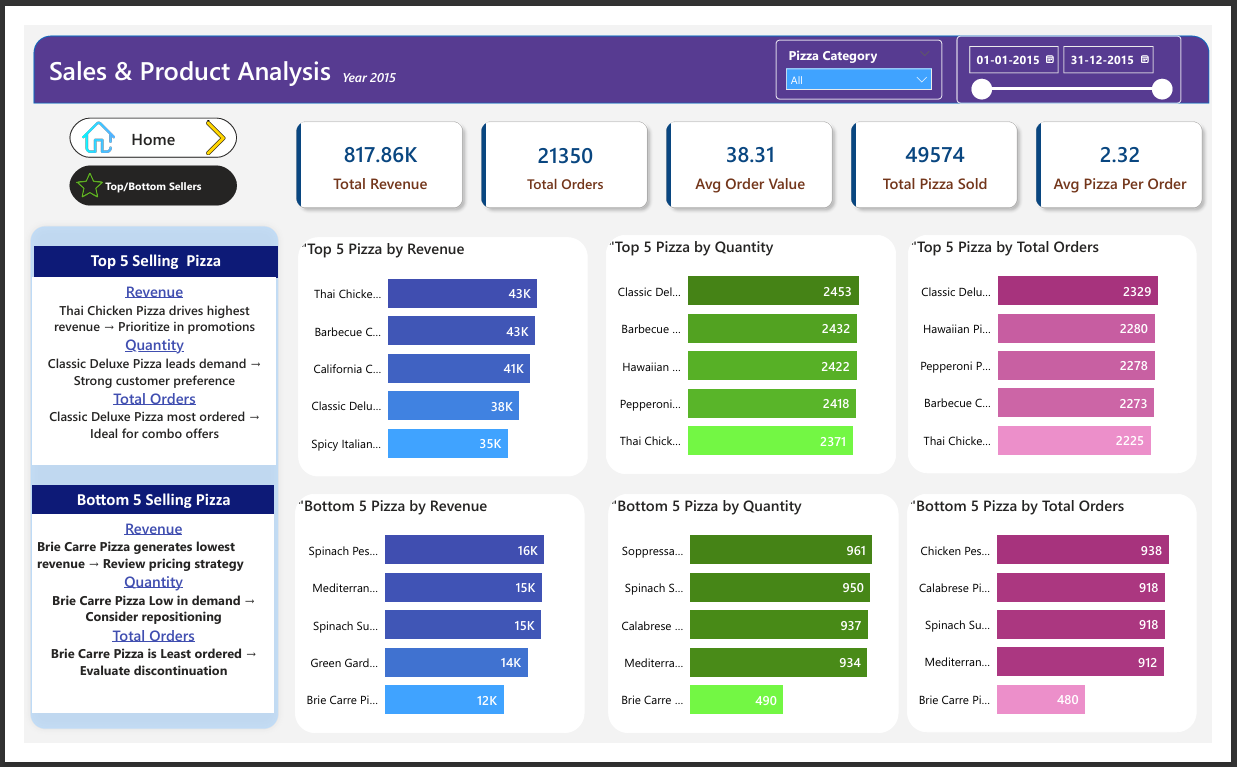

Layout of this report page (visuals, bound fields, positions):
{"tool":"powerbi","page":{"name":"Top/Bottom Sellers","canvas":[1490,900],"ordinal":1},"visuals":[{"type":"shape","box":[11.7,13.3,1475,85],"z":0},{"type":"shape","box":[0,244.3,326.9,646.5],"z":1000},{"type":"textbox","box":[26.2,29.5,418.9,63.8],"z":2000},{"type":"textbox","box":[394.4,42.5,127.6,50.7],"z":3000},{"type":"textbox","box":[12.9,277.3,304.9,38.6],"z":4000},{"type":"textbox","box":[11,613.5,303.1,249.8],"z":5000},{"type":"textbox","box":[11,315.9,304.9,235.1],"z":6000},{"type":"textbox","box":[11,576.7,303.1,36.7],"z":7000},{"type":"slicer","fields":{"Values":["pizza_sales.pizza_category"]},"box":[943.3,18.3,208.3,75],"z":8000},{"type":"slicer","fields":{"Values":["pizza_sales.order_date"]},"box":[1170,13.3,281.7,85],"z":9000},{"type":"barChart","title":"\"Top 5 Pizza by Revenue","fields":{"Category":["pizza_sales.pizza_name"],"Y":["pizza_sales.Total Revenue"]},"box":[343.5,266.1,363.3,300],"z":10000},{"type":"barChart","title":"\"Top 5 Pizza by Quantity","fields":{"Category":["pizza_sales.pizza_name"],"Y":["pizza_sales.Total Pizza Sold"]},"box":[730.2,262.7,363.3,300],"z":11000},{"type":"barChart","title":"\"Top 5 Pizza by Total Orders","fields":{"Category":["pizza_sales.pizza_name"],"Y":["pizza_sales.Total Orders"]},"box":[1109.4,262.7,361.8,299.4],"z":12000},{"type":"barChart","title":"\"Bottom 5 Pizza by Revenue","fields":{"Category":["pizza_sales.pizza_name"],"Y":["pizza_sales.Total Revenue"]},"box":[340,587.9,363.3,300],"z":13000},{"type":"barChart","title":"\"Bottom 5 Pizza by Quantity","fields":{"Category":["pizza_sales.pizza_name"],"Y":["pizza_sales.Total Pizza Sold"]},"box":[733.3,587.9,363.3,300],"z":14000},{"type":"barChart","title":"\"Bottom 5 Pizza by Total Orders","fields":{"Category":["pizza_sales.pizza_name"],"Y":["pizza_sales.Total Orders"]},"box":[1107.6,587.8,363.7,299.4],"z":15000},{"type":"pageNavigator","box":[57.1,115.7,210,50],"z":16000},{"type":"pageNavigator","box":[57.1,175.7,210,50],"z":17000},{"type":"image","box":[57.1,120,72.9,41.4],"z":18000},{"type":"image","box":[57.1,184.3,50,32.9],"z":19000},{"type":"image","box":[214.3,120,52.9,42.9],"z":20000},{"type":"cardVisual","fields":{"Data":["pizza_sales.Total Revenue","pizza_sales.Total Orders","pizza_sales.Avg Order Value","pizza_sales.Total Pizza Sold","pizza_sales.Avg Pizza sold Per Order"]},"box":[330,109.5,1160,131.7],"z":21000}]}

Visuals, with their boxes in screenshot pixels (x1, y1, x2, y2), scaled from the page's 1490x900 canvas onto the 1237x767 screenshot:
shape: region(10, 11, 1234, 84)
shape: region(0, 208, 271, 759)
textbox: region(22, 25, 370, 80)
textbox: region(327, 36, 433, 79)
textbox: region(11, 236, 264, 269)
textbox: region(9, 523, 261, 736)
textbox: region(9, 269, 262, 470)
textbox: region(9, 491, 261, 523)
slicer - pizza_sales.pizza_category: region(783, 16, 956, 80)
slicer - pizza_sales.order_date: region(971, 11, 1205, 84)
""Top 5 Pizza by Revenue" barChart: region(285, 227, 587, 482)
""Top 5 Pizza by Quantity" barChart: region(606, 224, 908, 480)
""Top 5 Pizza by Total Orders" barChart: region(921, 224, 1221, 479)
""Bottom 5 Pizza by Revenue" barChart: region(282, 501, 584, 757)
""Bottom 5 Pizza by Quantity" barChart: region(609, 501, 910, 757)
""Bottom 5 Pizza by Total Orders" barChart: region(920, 501, 1221, 756)
pageNavigator: region(47, 99, 222, 141)
pageNavigator: region(47, 150, 222, 192)
image: region(47, 102, 108, 138)
image: region(47, 157, 89, 185)
image: region(178, 102, 222, 139)
cardVisual - pizza_sales.Total Revenue x pizza_sales.Total Orders: region(274, 93, 1236, 206)
